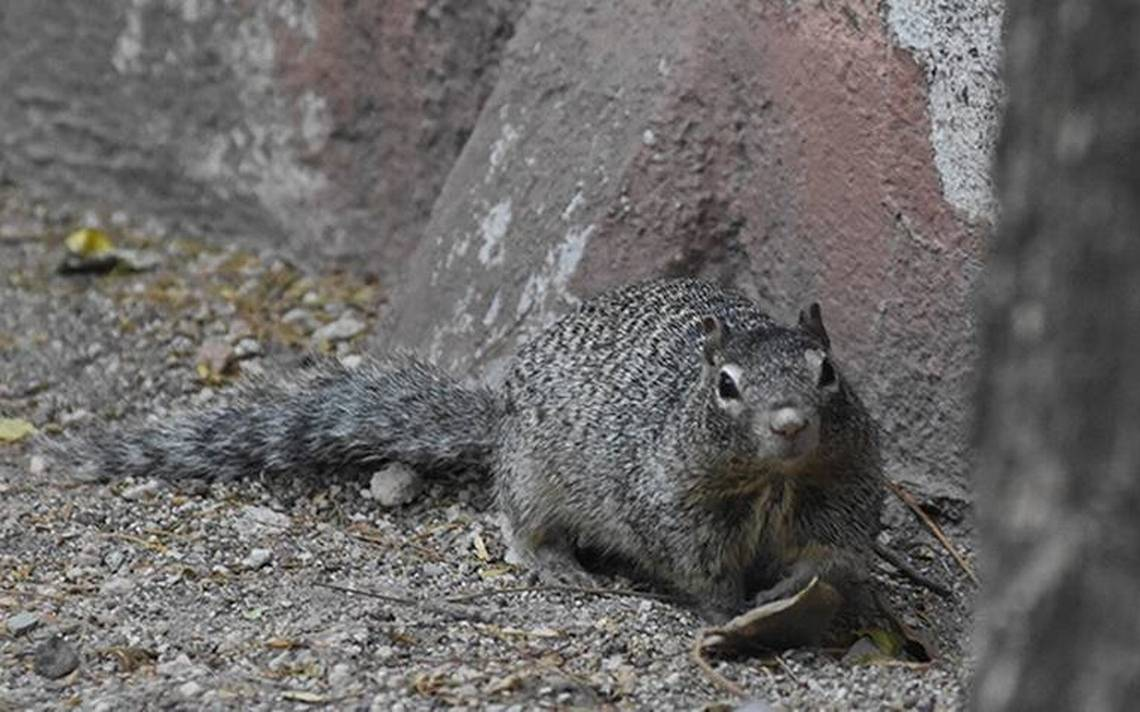Ardilla: (613, 279, 901, 603)
